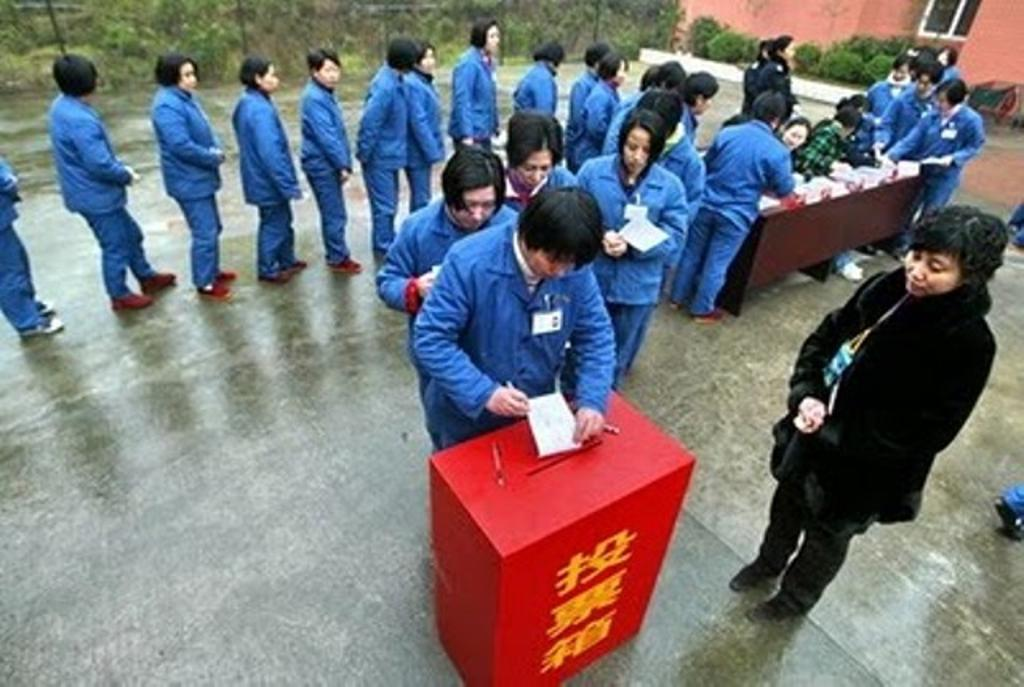face: (906, 230, 962, 296), (533, 238, 585, 278), (511, 145, 550, 192), (456, 182, 496, 226), (622, 124, 654, 171), (180, 62, 198, 94), (786, 126, 807, 150), (321, 60, 339, 87), (483, 25, 500, 53), (263, 61, 278, 90), (419, 47, 435, 73), (617, 57, 627, 86), (917, 74, 932, 92), (701, 89, 712, 113), (894, 63, 909, 80), (939, 90, 949, 113), (784, 39, 795, 59), (939, 50, 950, 66)
